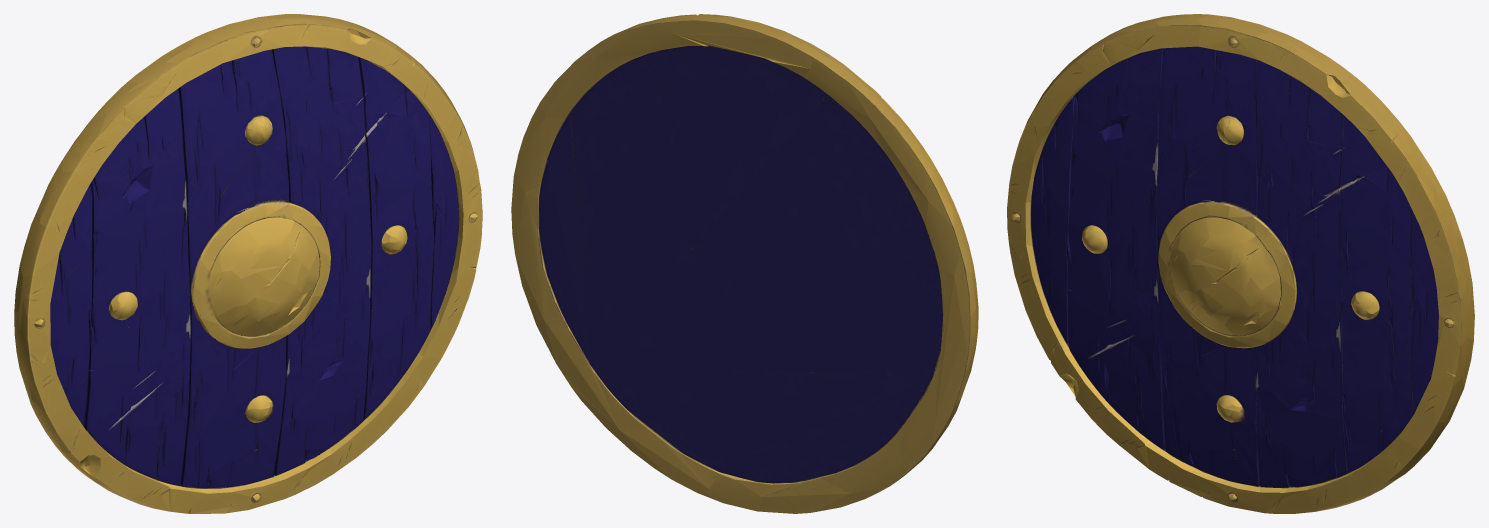
The model's file is soldier-shield.glb.
3 renders of one model, left to right at view 1: azimuth 30°, elevation 25°; view 2: azimuth 150°, elevation 25°; view 3: azimuth 330°, elevation 25°, orthographic.
Bounding box in the file's own units: 1.9 × 1.9 × 0.2062.
Materials: 1 (1 with a texture image).
